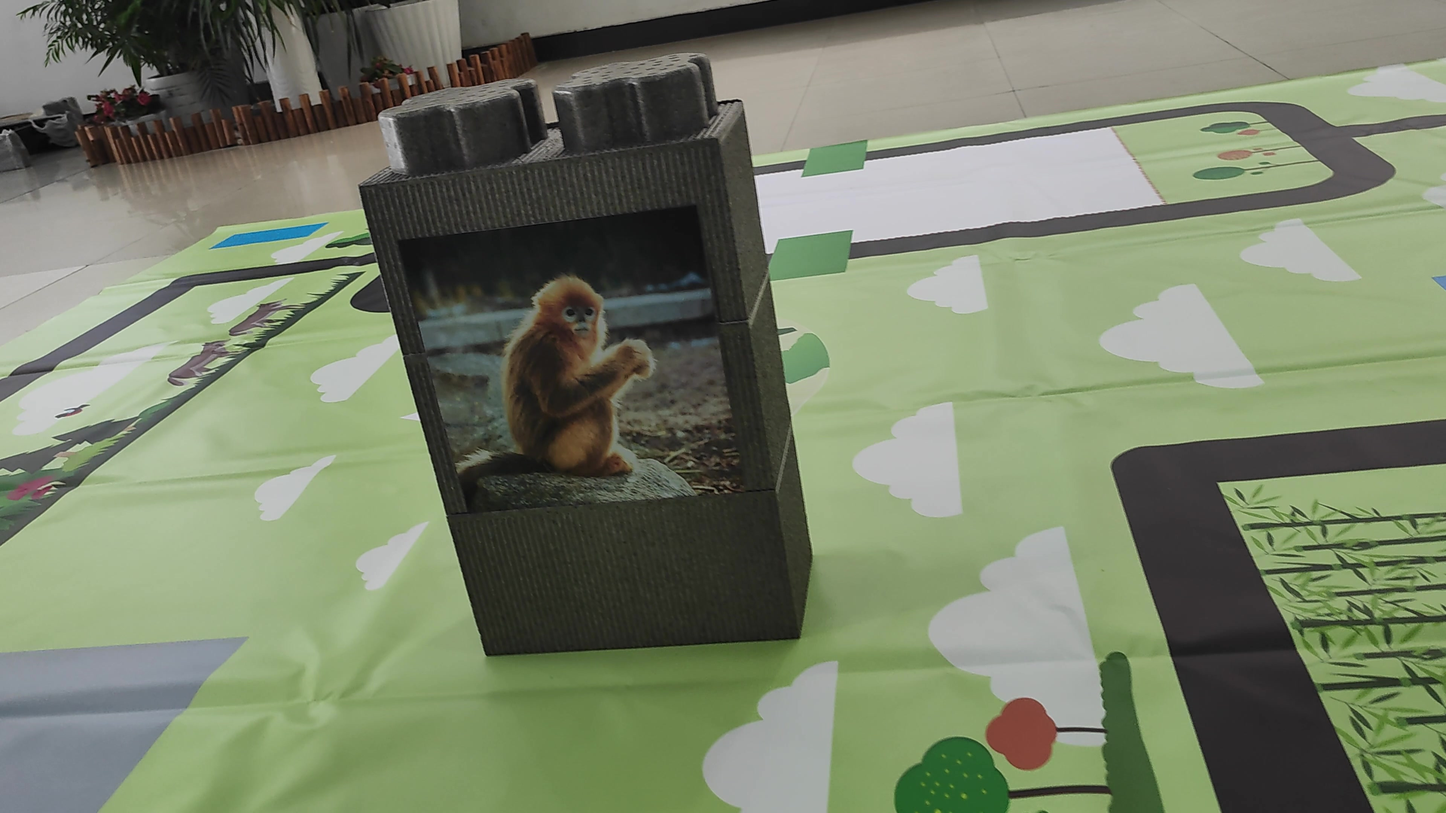monkey: (459, 257, 682, 516)
